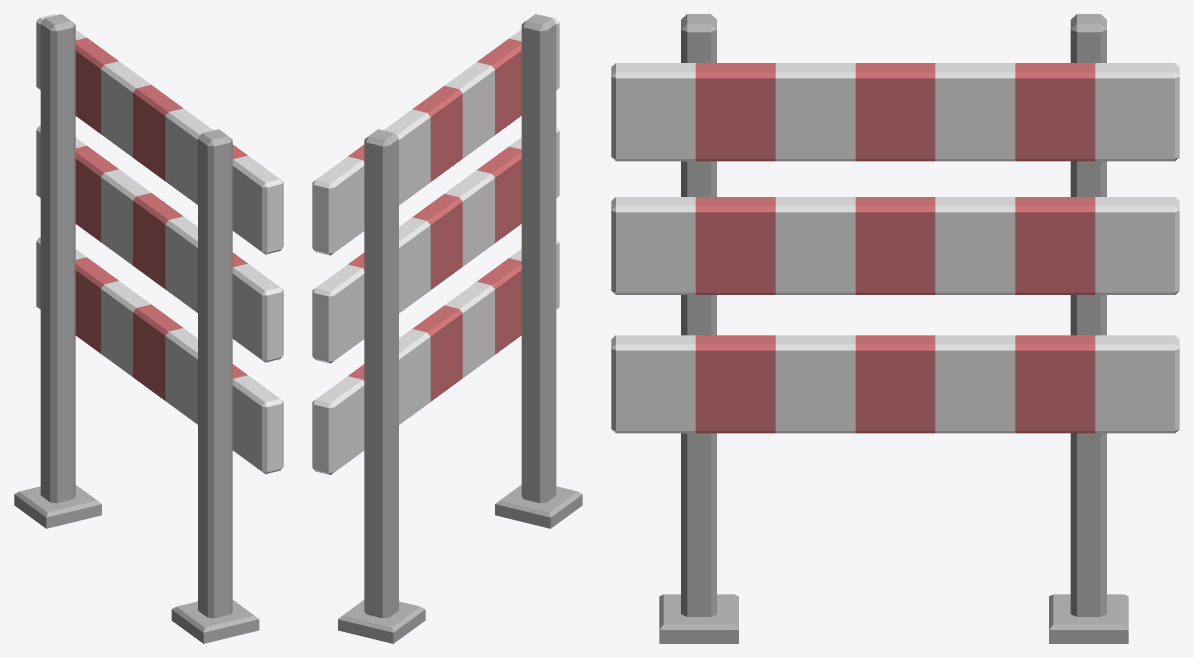
The model's file is Barrier D.fbx.
3 renders of one model, left to right at view 1: azimuth 30°, elevation 25°; view 2: azimuth 150°, elevation 25°; view 3: azimuth 270°, elevation 25°, orthographic. The views are drawn at different scales.
Visible parts, largest first — view 1: Barrier D; view 2: Barrier D; view 3: Barrier D.
Part boxes in pixels (left/top/right/bottom): Barrier D: left=14, top=14, right=283, bottom=643; Barrier D: left=312, top=14, right=582, bottom=643; Barrier D: left=611, top=14, right=1179, bottom=643.
Size of the model in its own units: 29.93 by 225 by 191.
